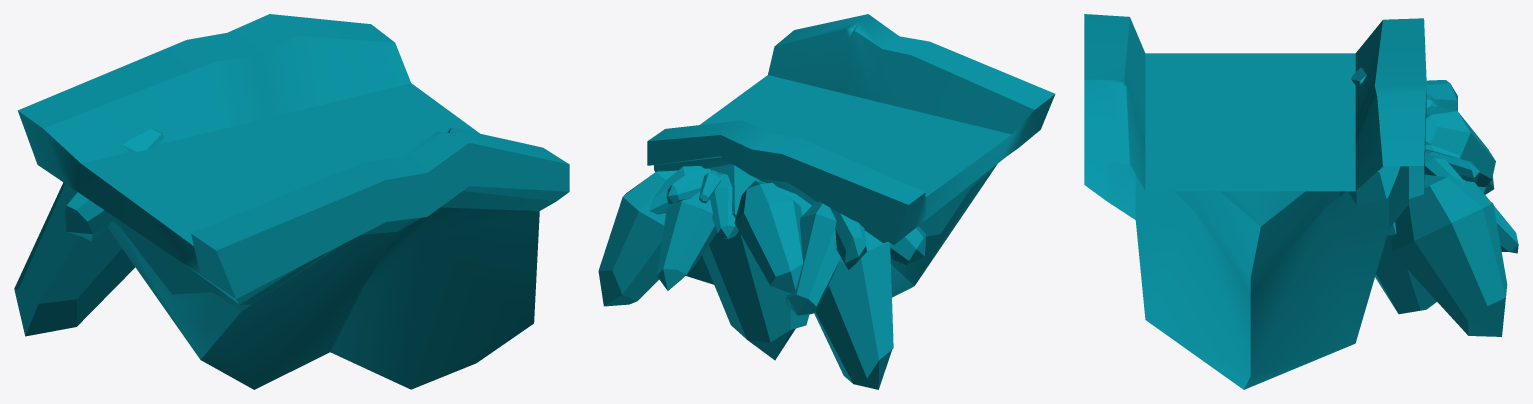
File: Sml_End_Cap_R.fbx
3 views of the same model, side by side, from view 1: azimuth 30°, elevation 25°; view 2: azimuth 150°, elevation 25°; view 3: azimuth 270°, elevation 25° (orthographic). The views are drawn at different scales.
Parts seen in each view (by area): view 1: Sml_End_Cap_R_Comb; view 2: Sml_End_Cap_R_Comb; view 3: Sml_End_Cap_R_Comb.
Part boxes in pixels (<box>): Sml_End_Cap_R_Comb: <box>14,14,569,389</box>; Sml_End_Cap_R_Comb: <box>598,14,1055,389</box>; Sml_End_Cap_R_Comb: <box>1084,14,1518,389</box>.
Bounding box in the file's own units: 1.52 × 1.25 × 1.76.
